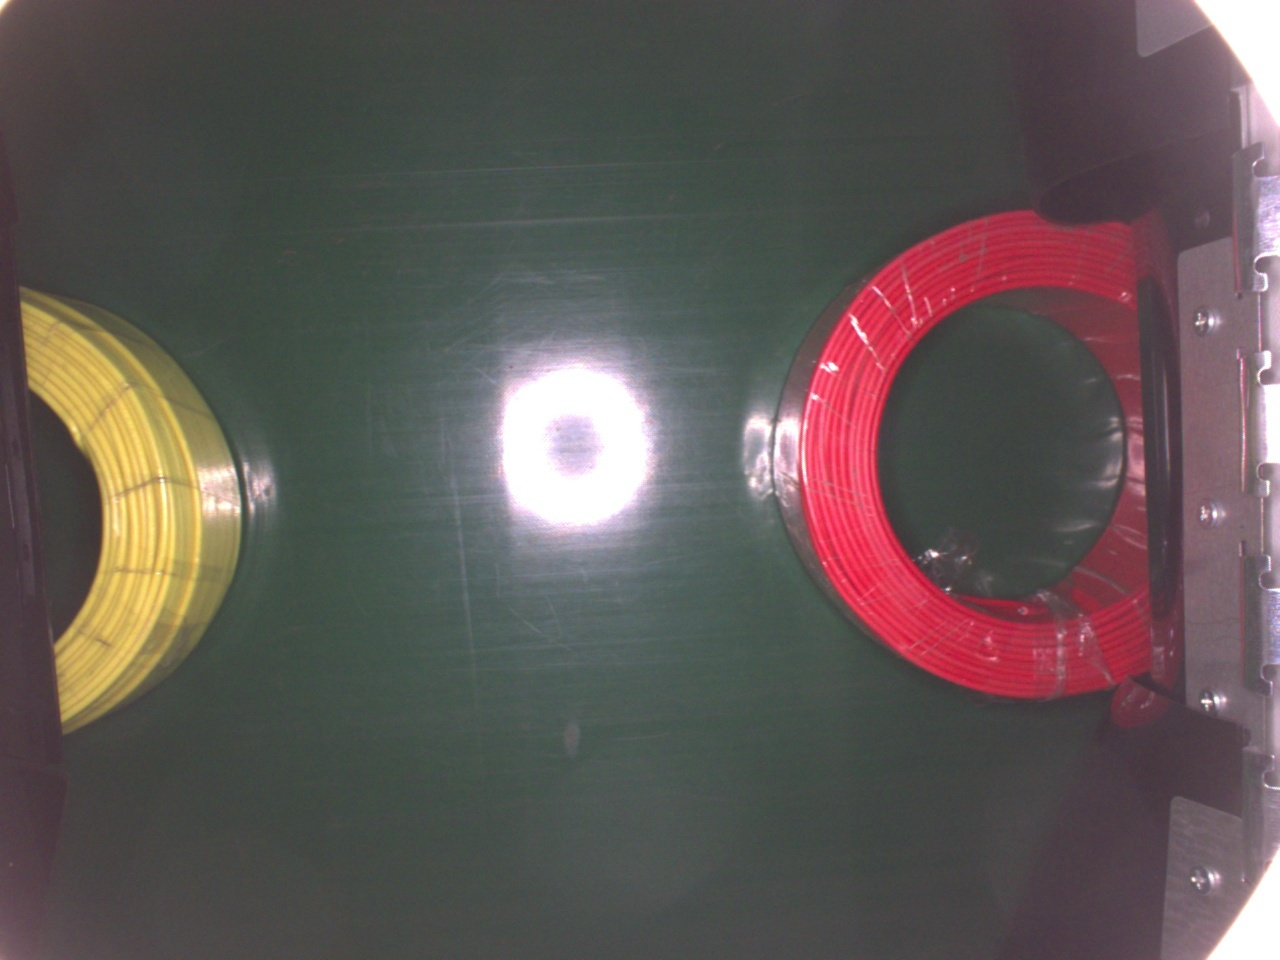red: (765, 203, 1174, 704)
yellow: (19, 278, 244, 733)
